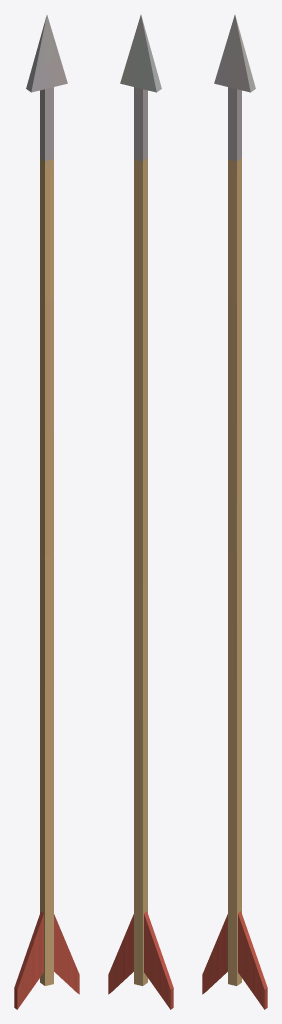
File: fletxatest2.glb
3 views of the same model, side by side, from view 1: azimuth 30°, elevation 25°; view 2: azimuth 150°, elevation 25°; view 3: azimuth 330°, elevation 25° (orthographic).
Parts seen in each view (by area): view 1: ARROW_Cube.033; view 2: ARROW_Cube.033; view 3: ARROW_Cube.033.
Part boxes in pixels (left/top/right/bottom): ARROW_Cube.033: left=14, top=15, right=79, bottom=1009; ARROW_Cube.033: left=108, top=15, right=173, bottom=1009; ARROW_Cube.033: left=202, top=15, right=267, bottom=1009.
Bounding box in the file's own units: 0.03 × 0.4543 × 0.00435.
1 material, 1 textured.
